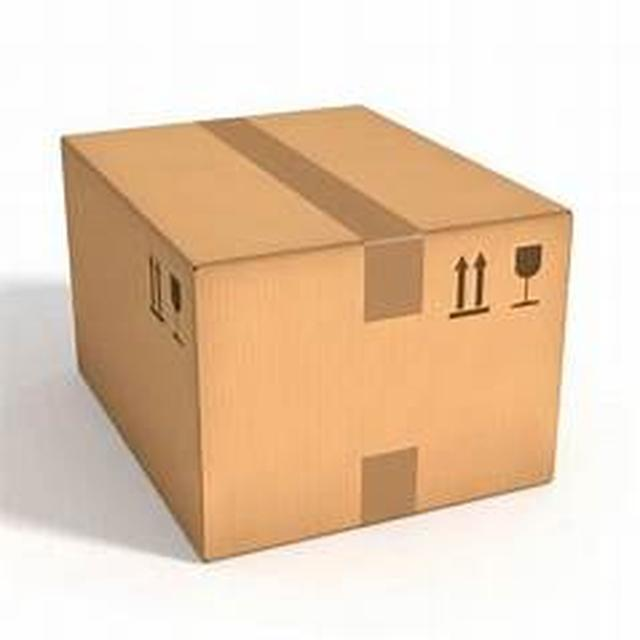box: (35, 91, 590, 598)
